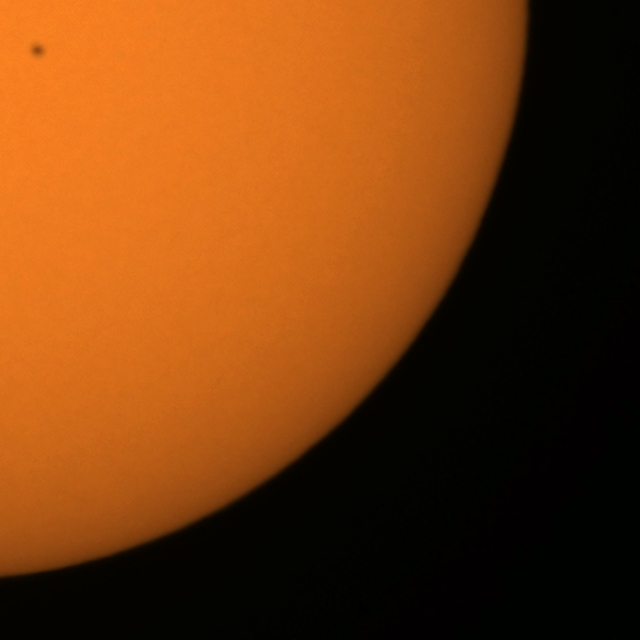sunspot: (27, 40, 48, 62)
